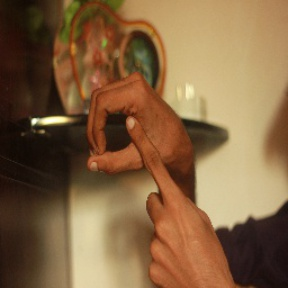Q: (81, 68, 205, 228)
